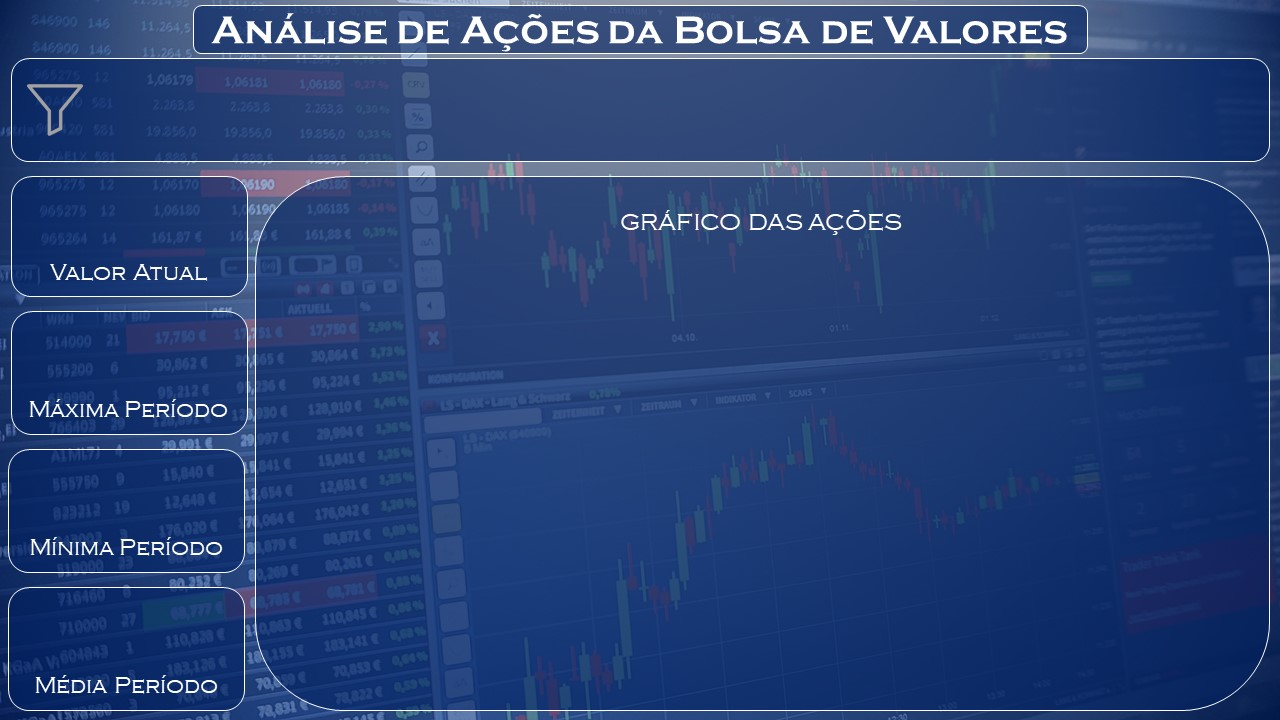

Layout of this report page (visuals, bound fields, positions):
{"tool":"powerbi","page":{"name":"Página 1","canvas":[1280,720],"ordinal":0},"visuals":[{"type":"slicer","fields":{"Values":["Ações.ticker"]},"box":[96.4,73.8,696.4,66.7],"z":0},{"type":"slicer","fields":{"Values":["Ações.Date"]},"box":[776.2,64.3,476.2,85.7],"z":1000},{"type":"card","fields":{"Values":["Sum(Ações.Close)"]},"box":[41.7,194,175,66.7],"z":2000},{"type":"card","fields":{"Values":["Max(Ações.Close)"]},"box":[41.2,308.7,188,102.9],"z":3000},{"type":"card","fields":{"Values":["Min(Ações.Close)"]},"box":[35.7,458.3,188,67.2],"z":3001},{"type":"card","fields":{"Values":["Avg(Ações.Close)"]},"box":[43.9,594.2,170.2,65.9],"z":3002},{"type":"areaChart","fields":{"Y":["Sum(Ações.Close)"],"Category":["Ações.Date"]},"box":[282.7,227.8,970.2,467.9],"z":3003}]}

Visuals, with their boxes in screenshot pixels (x1, y1, x2, y2), scaled from the page's 1280x720 canvas onto the 1280x720 screenshot:
slicer - Ações.ticker: <region>96, 74, 793, 140</region>
slicer - Ações.Date: <region>776, 64, 1252, 150</region>
card - Sum(Ações.Close): <region>42, 194, 217, 261</region>
card - Max(Ações.Close): <region>41, 309, 229, 412</region>
card - Min(Ações.Close): <region>36, 458, 224, 526</region>
card - Avg(Ações.Close): <region>44, 594, 214, 660</region>
areaChart - Sum(Ações.Close) x Ações.Date: <region>283, 228, 1253, 696</region>
